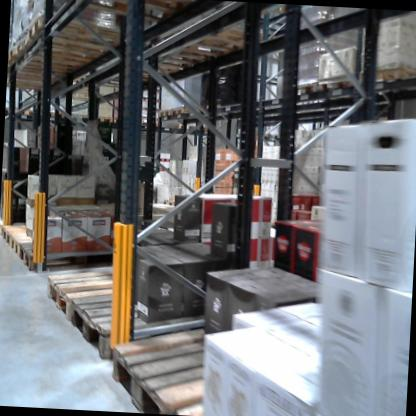pallet: (106, 321, 281, 416), (66, 279, 217, 366), (44, 253, 154, 331), (22, 6, 122, 65), (57, 0, 211, 29), (12, 30, 115, 70), (16, 237, 114, 277), (164, 21, 270, 57), (9, 231, 102, 269), (7, 42, 83, 80), (1, 220, 66, 251), (356, 66, 416, 90), (281, 79, 319, 104), (318, 70, 356, 94), (176, 120, 215, 139), (59, 109, 82, 122), (138, 119, 162, 129), (154, 107, 173, 119), (170, 104, 184, 117), (94, 114, 114, 123), (5, 105, 19, 115), (0, 218, 6, 235)
